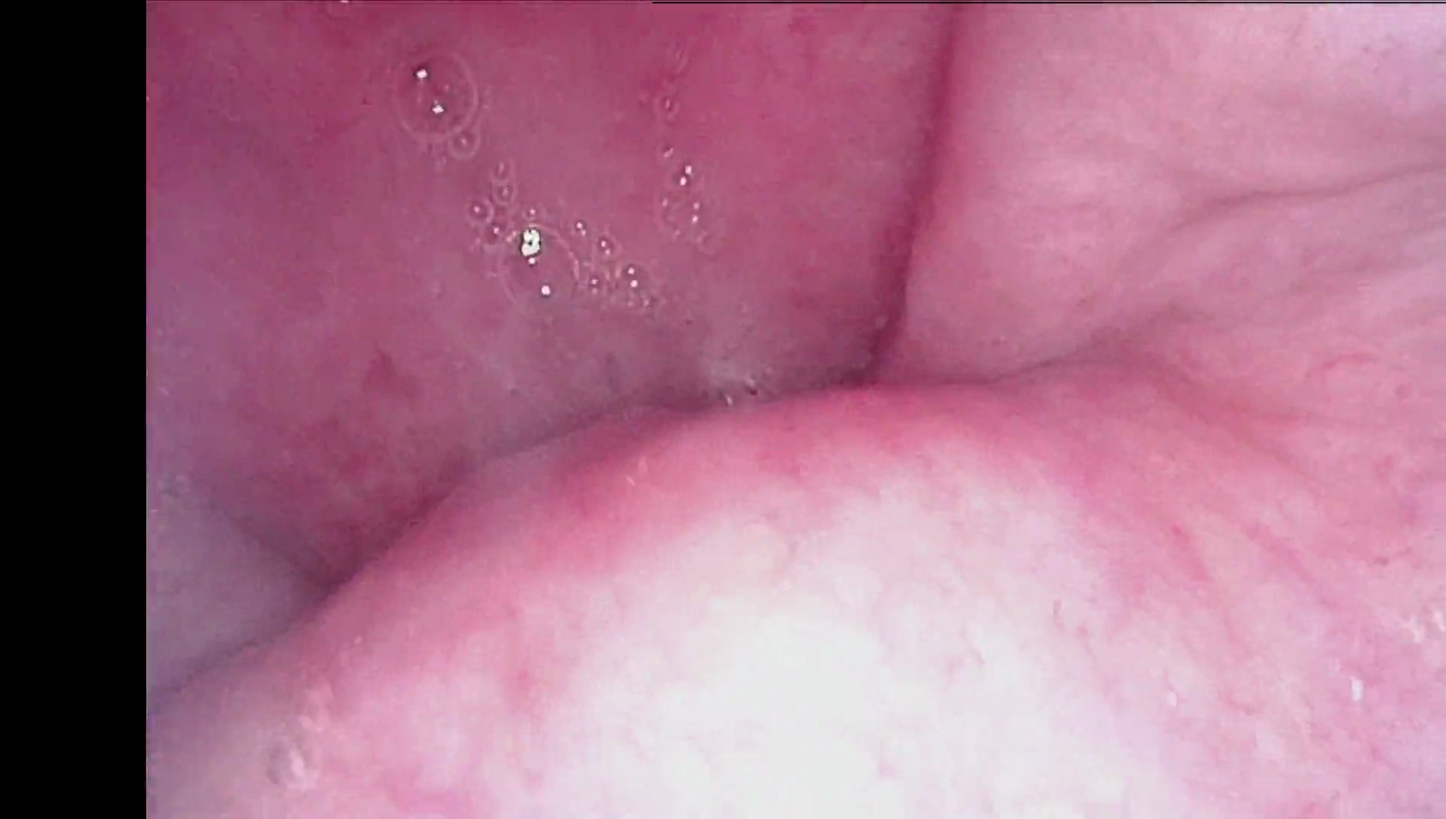close_wall: (526, 473, 1314, 819), (1136, 0, 1446, 145)
